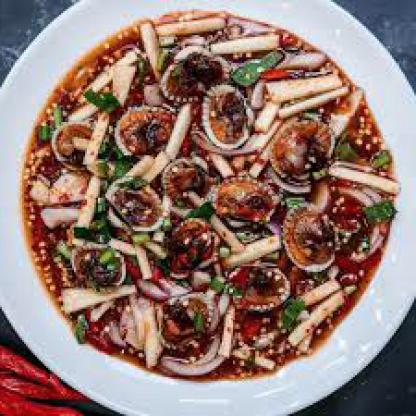Yum: (9, 19, 400, 408)
